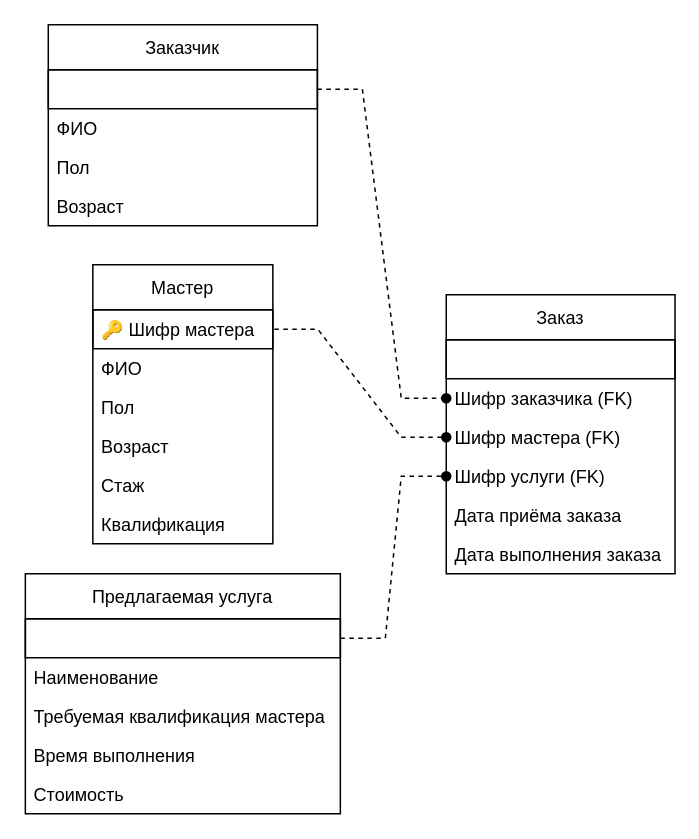
This 699x839 diagram has some shape labels left out. Each missing label, with the centre of its shape:
🔑 Шифр заказа: [560,358]
🔑 Шифр заказчика: [182,88]
🔑 Шифр услуги: [182,637]
